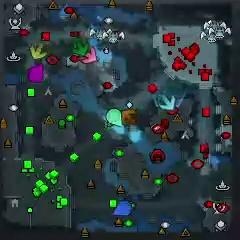p1: (112, 200, 133, 216)
p2: (106, 108, 122, 127)
p3: (28, 63, 44, 83)
x1: (81, 47, 97, 64)
x2: (30, 42, 48, 60)
x3: (160, 95, 177, 110)
x4: (72, 39, 89, 56)
x5: (121, 108, 137, 125)
